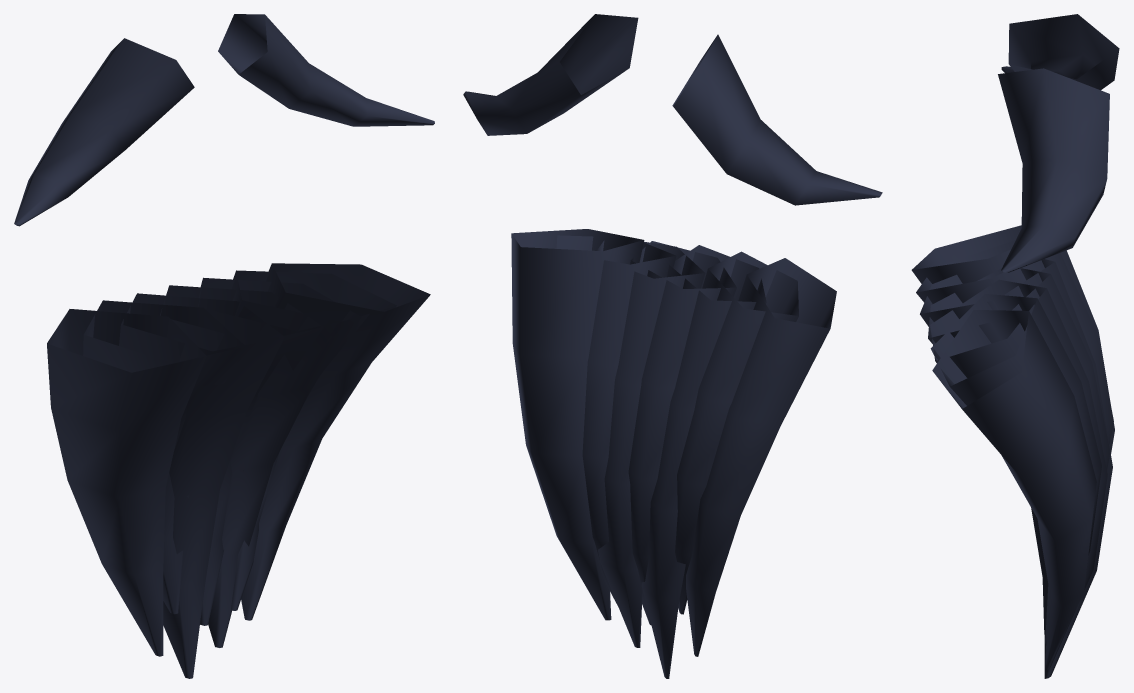
Rendered from anime_goatee.glb.
3 views of the same model, side by side, from view 1: azimuth 30°, elevation 25°; view 2: azimuth 150°, elevation 25°; view 3: azimuth 270°, elevation 25° (orthographic).
Parts seen in each view (by area): view 1: beard; view 2: beard; view 3: beard.
Boxes of the visible parts, left/top/right/bottom form: beard: left=14, top=14, right=434, bottom=678; beard: left=463, top=14, right=882, bottom=678; beard: left=911, top=14, right=1119, bottom=678.
Bounding box in the file's own units: 0.0905 × 0.1336 × 0.039.
